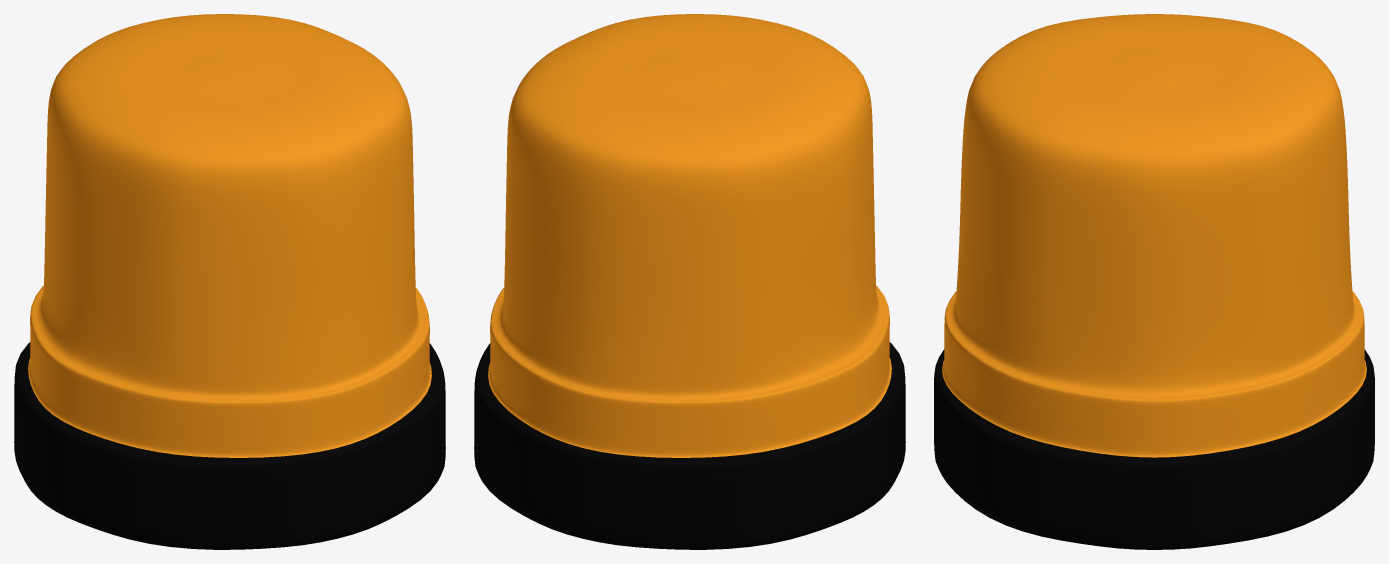
File: alarm_orange.glb
3 views of the same model, side by side, from view 1: azimuth 30°, elevation 25°; view 2: azimuth 150°, elevation 25°; view 3: azimuth 270°, elevation 25° (orthographic).
Visible parts, largest first — view 1: Sphere; view 2: Sphere; view 3: Sphere.
Part boxes in pixels (<box>): Sphere: <box>14,14,445,549</box>; Sphere: <box>474,14,905,549</box>; Sphere: <box>934,14,1374,549</box>.
Size of the model in its own units: 2.01 by 2.03 by 2.03.
